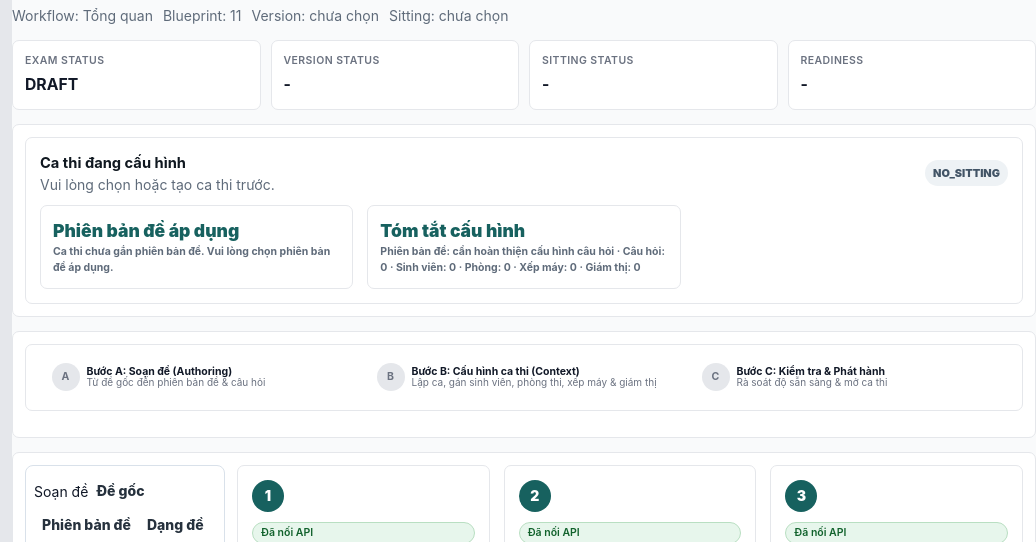
Scenario: ExamSetupPage API-client boundary › switching from an exam with class section to one without clears the field
Click the button "Đề gốc" at [120, 490], box [88,474,152,508]
(page scrolled)
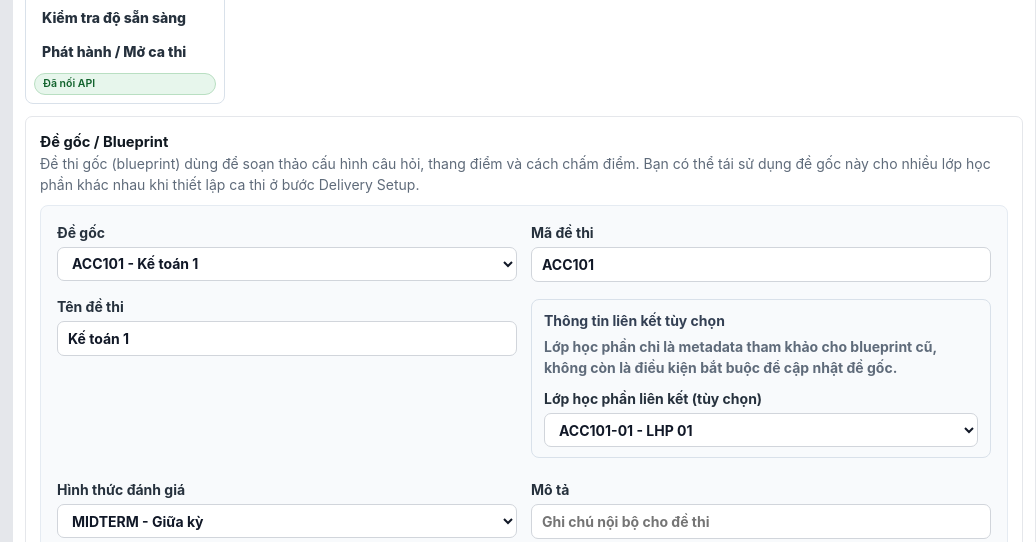
Result: the field labelled "Mã đề thi" is shown at [531,247,991,282]
Result: the dropdown labelled "Lớp học phần liên kết (tùy chọn)" shows "ACC101-01 - LHP 01" at [544,414,978,448]
Select "ACC102 - Kế toán 2" in the dropdown labelled "Đề gốc" at [287, 264], box [57,247,517,281]
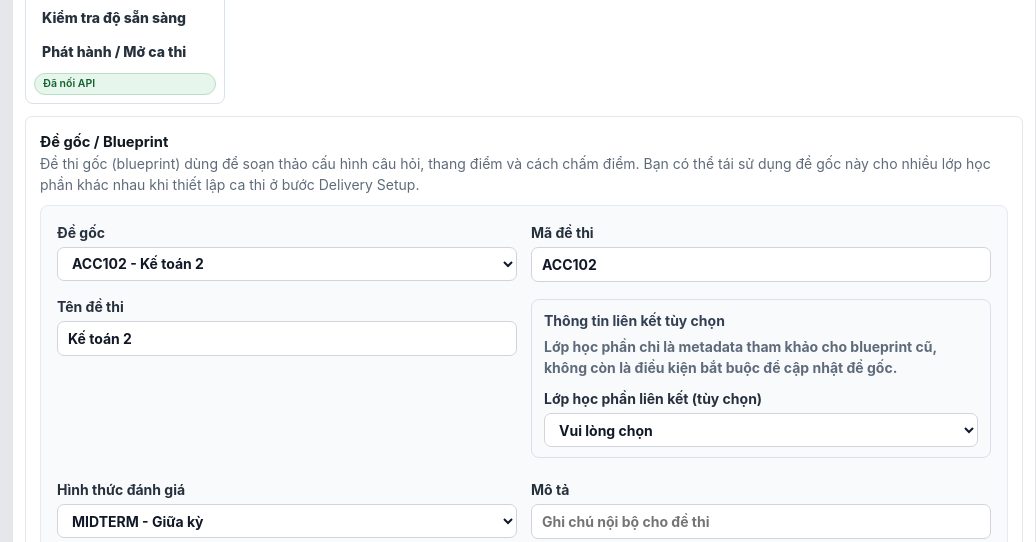
Result: the dropdown labelled "Lớp học phần liên kết (tùy chọn)" shows "Vui lòng chọn" at [544,414,978,448]
